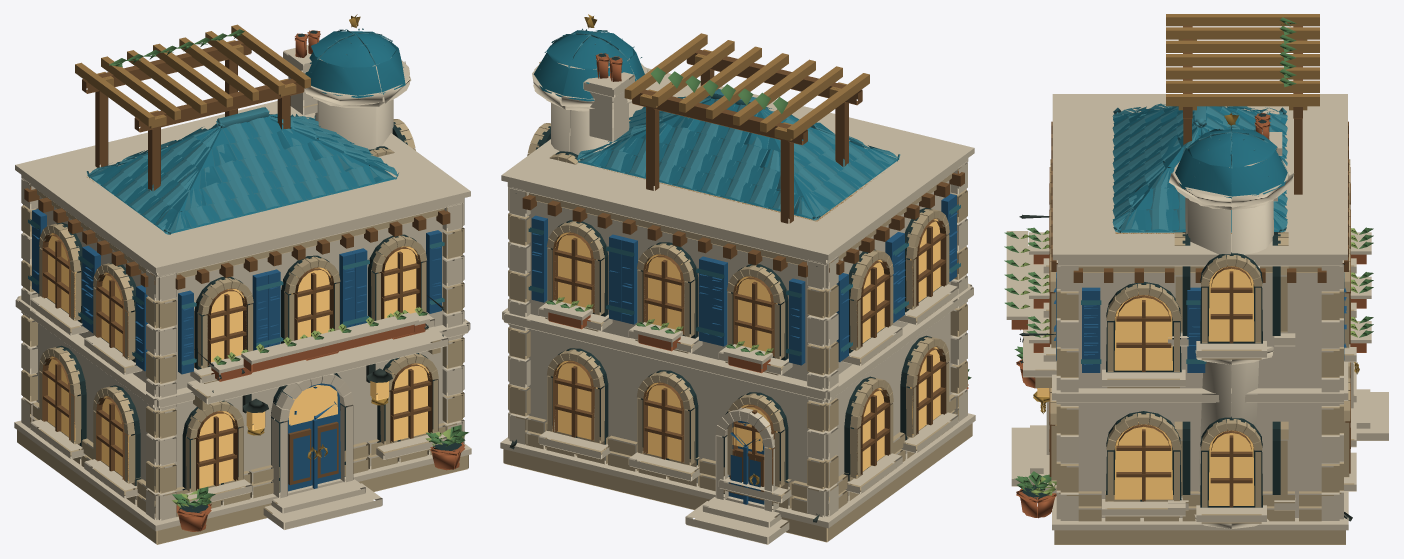
The picture shows the model from 3 angles, left to right: view 1: azimuth 30°, elevation 25°; view 2: azimuth 150°, elevation 25°; view 3: azimuth 270°, elevation 25°; orthographic projection. The views are drawn at different scales.
Parts seen in each view (by area): view 1: harbor_tower_2_geometry; view 2: harbor_tower_2_geometry; view 3: harbor_tower_2_geometry.
Boxes of the visible parts, box(x1,y1,x2,y2) form: harbor_tower_2_geometry: box(14, 14, 471, 544); harbor_tower_2_geometry: box(500, 14, 975, 544); harbor_tower_2_geometry: box(1004, 14, 1388, 544).
Size of the model in its own units: 0.99 by 1.09 by 0.913.
